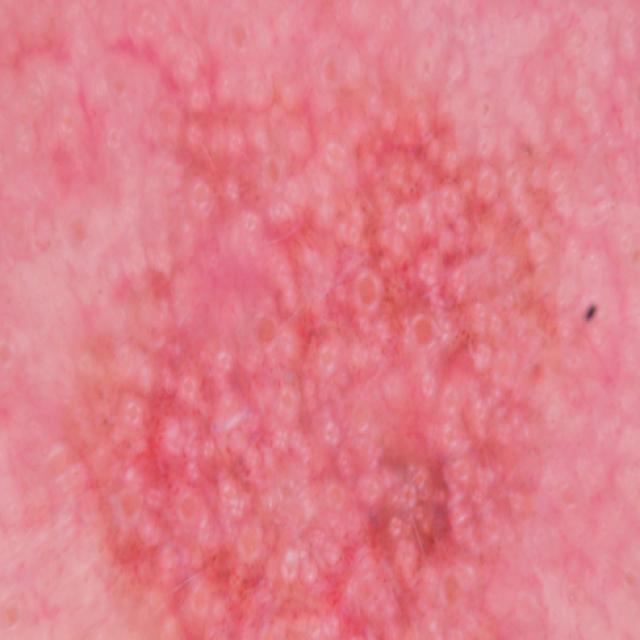Melanoma: (124, 165, 540, 640)
